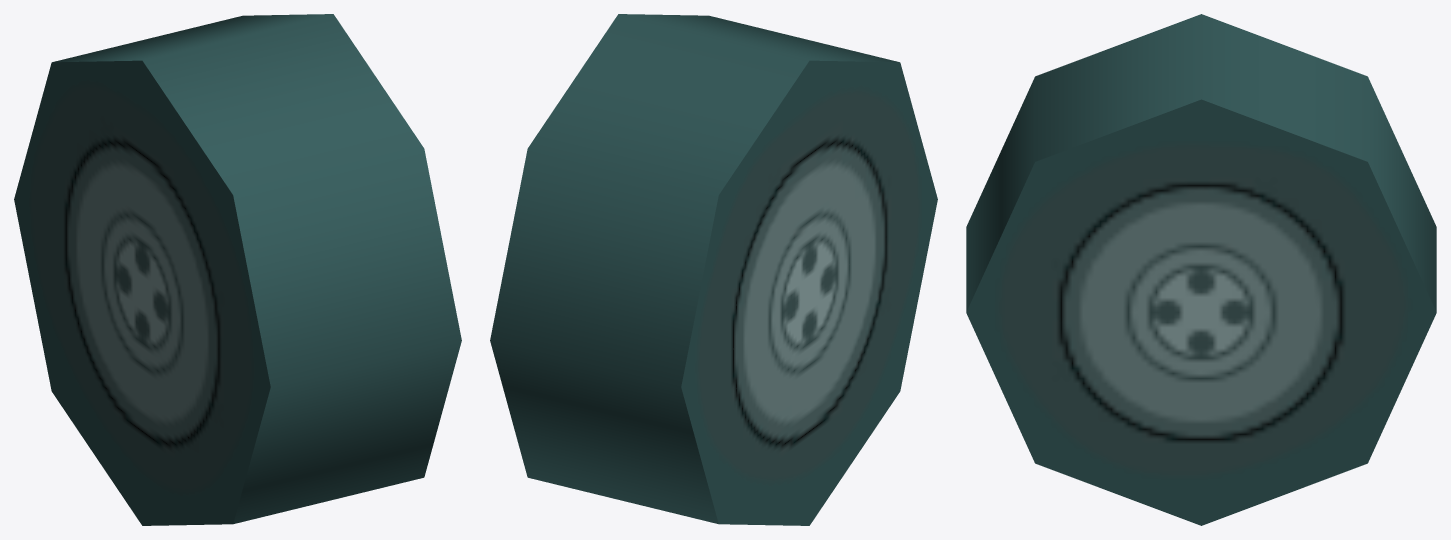
The model's file is BusWheel.fbx.
The picture shows the model from 3 angles, left to right: view 1: azimuth 30°, elevation 25°; view 2: azimuth 150°, elevation 25°; view 3: azimuth 270°, elevation 25°; orthographic projection. The views are drawn at different scales.
Visible parts, largest first — view 1: Cylinder; view 2: Cylinder; view 3: Cylinder.
Part boxes in pixels (<box>): Cylinder: <box>14,14,461,525</box>; Cylinder: <box>490,14,937,525</box>; Cylinder: <box>966,14,1436,525</box>.
Bounding box in the file's own units: 0.8597 × 2 × 2.
Materials: 1 (1 with a texture image).
